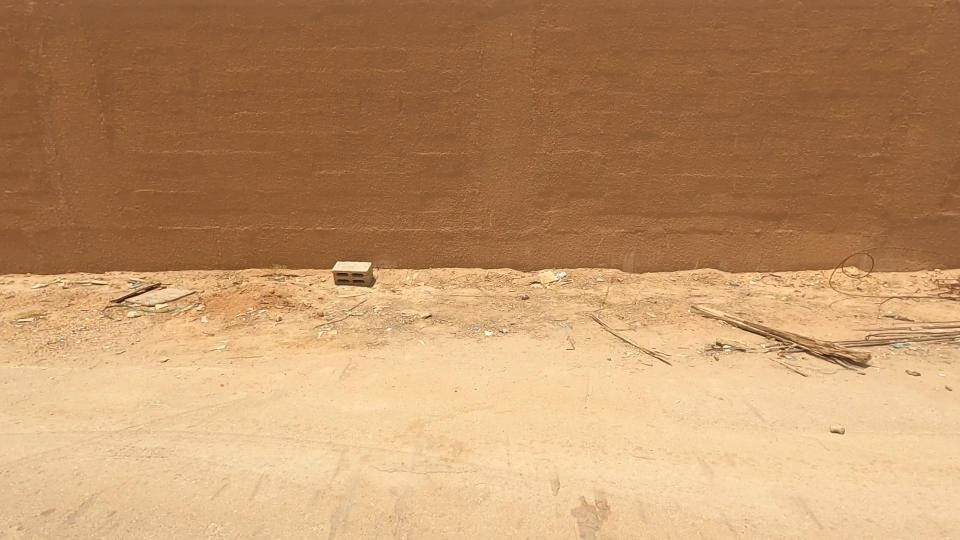GARBAGE: (557, 235, 960, 422), (0, 245, 259, 353), (285, 231, 433, 324), (488, 254, 608, 313), (459, 308, 504, 359)
